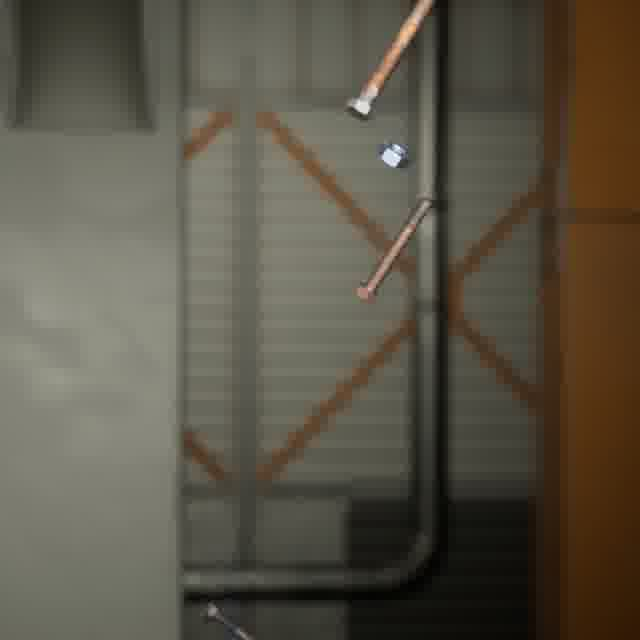bolt: (341, 0, 442, 125), (349, 192, 437, 308), (197, 596, 261, 640)
nut: (372, 136, 415, 173)
